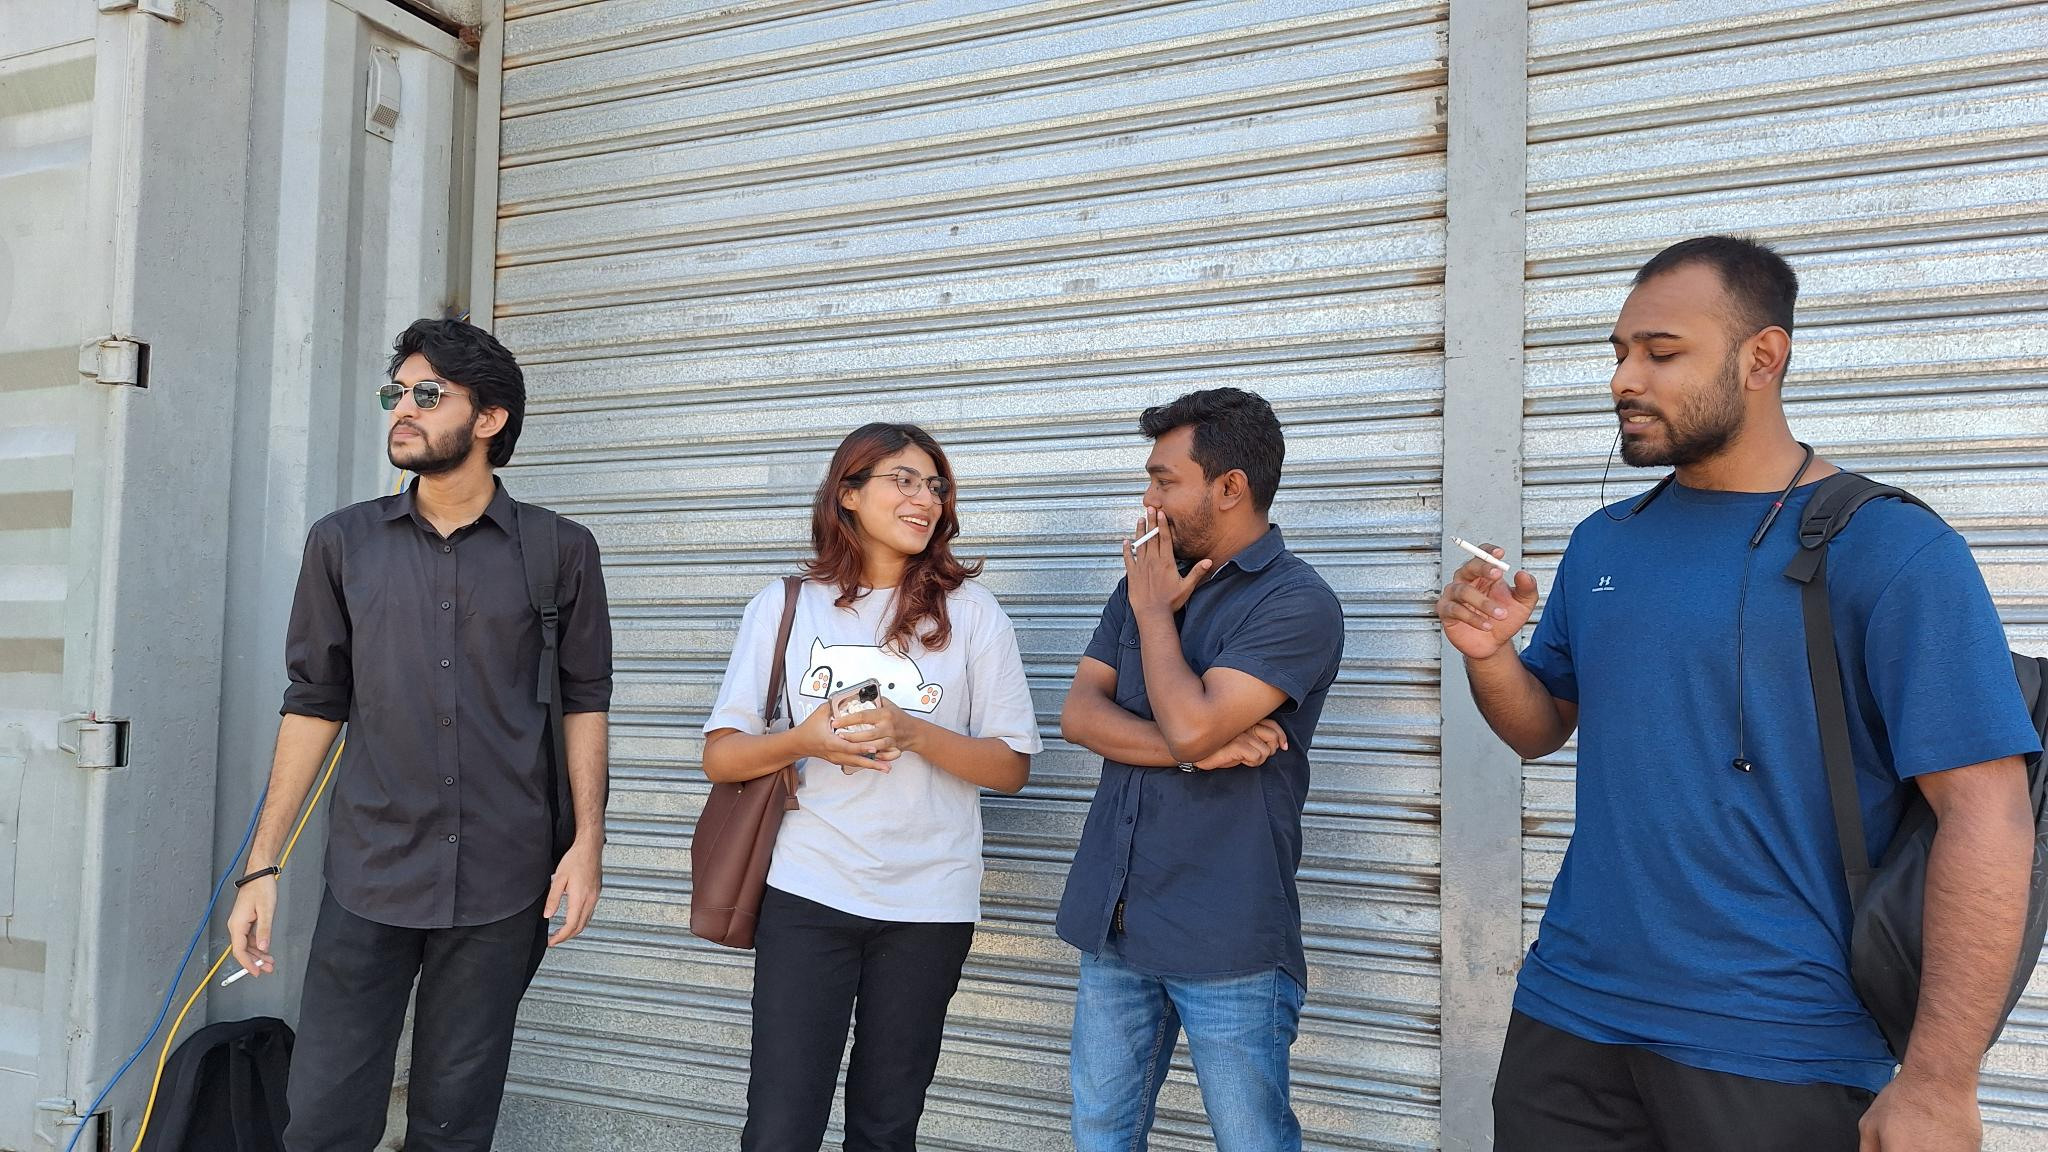cigarette: (1447, 533, 1512, 575), (218, 958, 266, 990), (1129, 525, 1160, 551)
nonSmoker: (691, 422, 1044, 1152)
smoker: (1435, 233, 2048, 1152), (226, 319, 615, 1152), (1055, 387, 1345, 1152)
